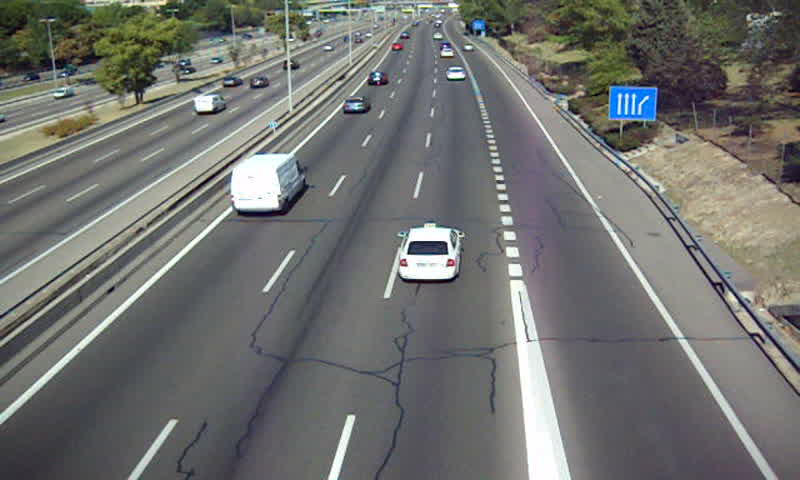car: (397, 226, 461, 280), (342, 96, 369, 116), (367, 70, 388, 88), (444, 66, 467, 82)
van: (230, 154, 305, 213)
